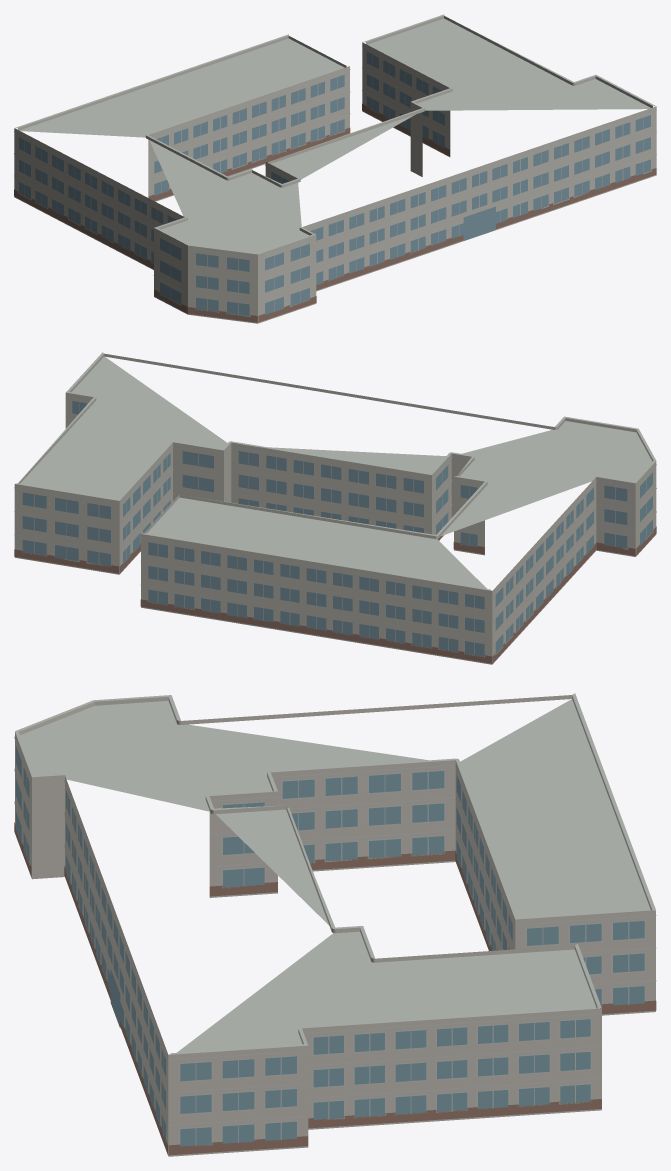
File: public-ec2d7f59-b43a-4121-b432-69d456871bb1.glb
3 renders of one model, top to bottom at view 1: azimuth 30°, elevation 25°; view 2: azimuth 150°, elevation 25°; view 3: azimuth 270°, elevation 25°, orthographic. The views are drawn at different scales.
Parts seen in each view (by area): view 1: public-ec2d7f59-b43a-4121-b432-69d456871bb1; view 2: public-ec2d7f59-b43a-4121-b432-69d456871bb1; view 3: public-ec2d7f59-b43a-4121-b432-69d456871bb1.
Boxes of the visible parts, x1,y1,x2,y2 form: public-ec2d7f59-b43a-4121-b432-69d456871bb1: (14,14,656,323); public-ec2d7f59-b43a-4121-b432-69d456871bb1: (14,352,656,664); public-ec2d7f59-b43a-4121-b432-69d456871bb1: (14,693,656,1156).
Bounding box in the file's own units: 69.8 × 9.15 × 52.32.
